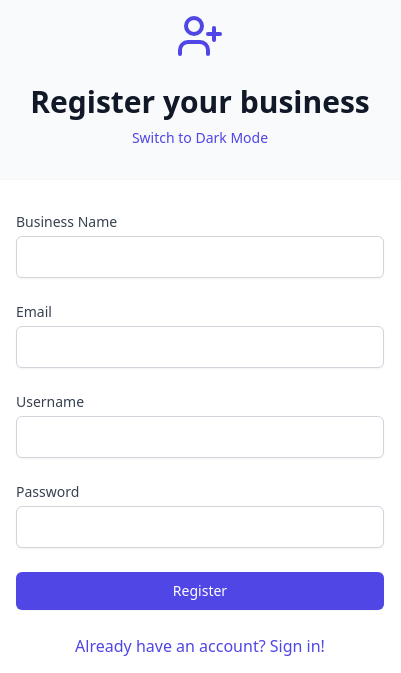
RegisterForm › displays an error message when registration fails
Note: Fill in the form with valid data
Type "Test Business" into the field labelled "Business Name" at (200, 257), box [16,236,384,278]
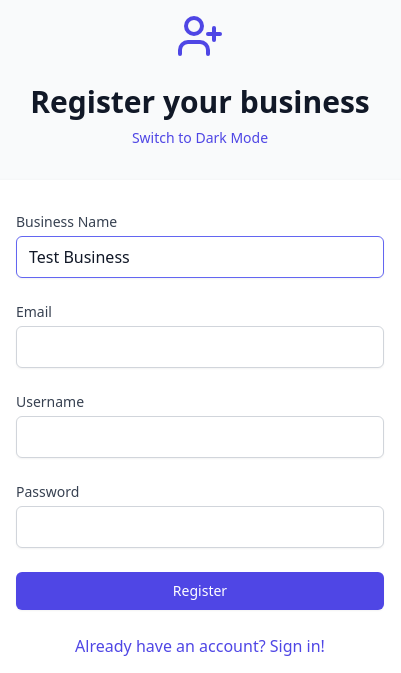
Type "test@example.com" into the field labelled "Email" at (200, 347), box [16,326,384,368]
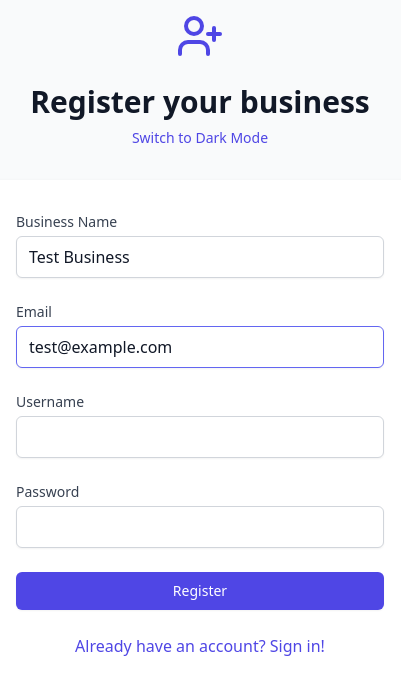
Type "existinguser" into the field labelled "Username" at (200, 437), box [16,416,384,458]
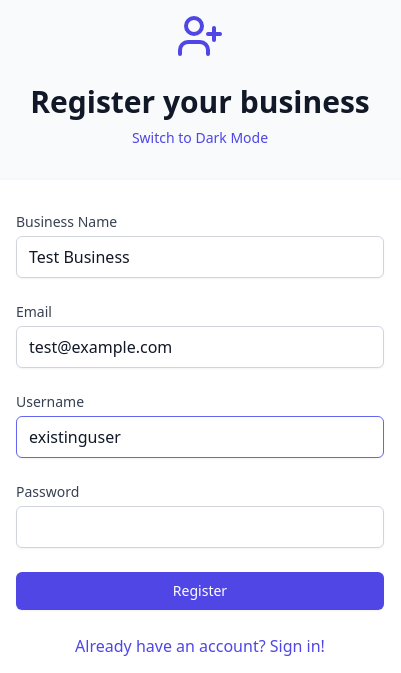
Type "password123" into the password field labelled "Password" at (200, 527), box [16,506,384,548]
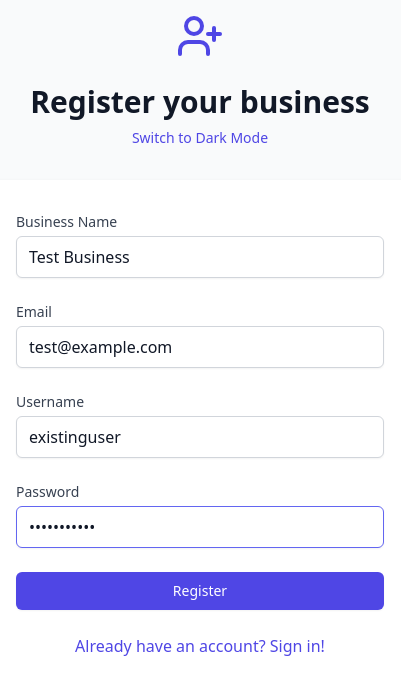
Note: Submit the form
Click the button "Register" at (200, 591), box [16,572,384,610]
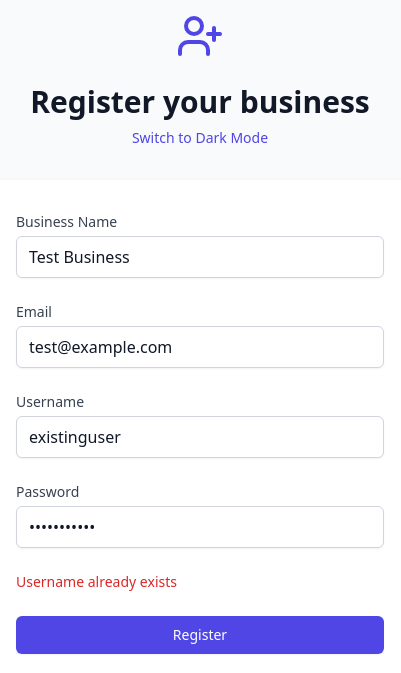
Now the text "Username already exists" is shown, box [16,572,177,591]
